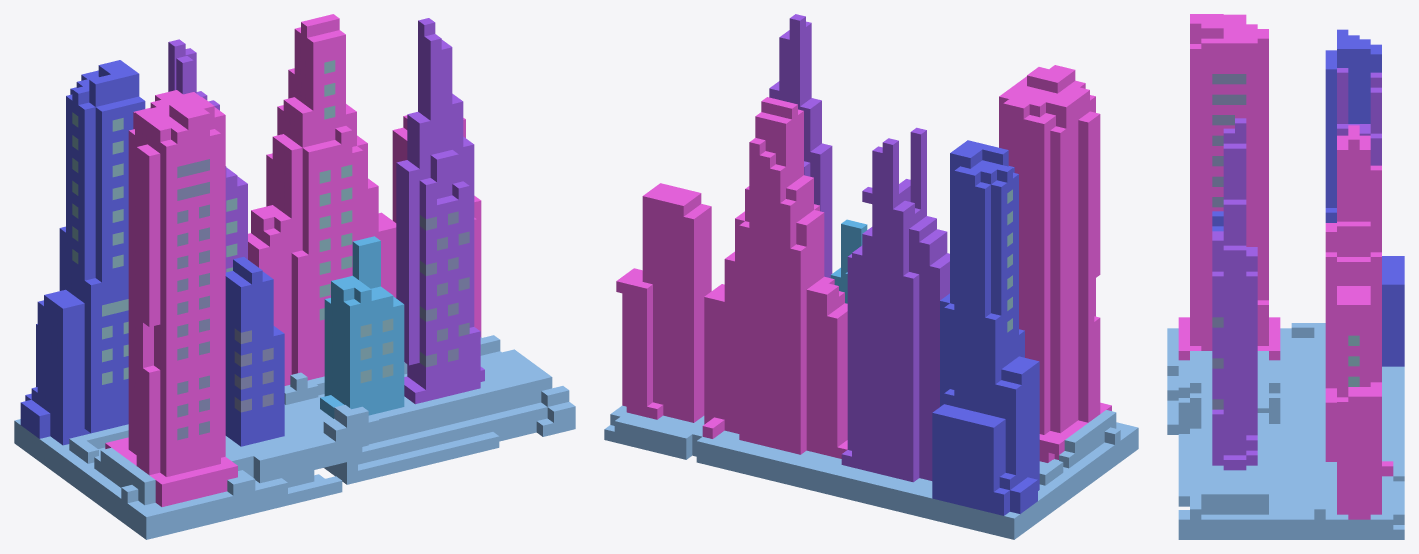
File: building_4.gltf
3 views of the same model, side by side, from view 1: azimuth 30°, elevation 25°; view 2: azimuth 150°, elevation 25°; view 3: azimuth 270°, elevation 25° (orthographic). The views are drawn at different scales.
Parts seen in each view (by area): view 1: Layer.1; view 2: Layer.1; view 3: Layer.1.
Boxes of the visible parts, x1,y1,x2,y2 form: Layer.1: (14,14,575,539); Layer.1: (604,14,1138,539); Layer.1: (1167,14,1404,539).
Bounding box in the file's own units: 40 × 36 × 21.
Materials: 1 (1 with a texture image).
